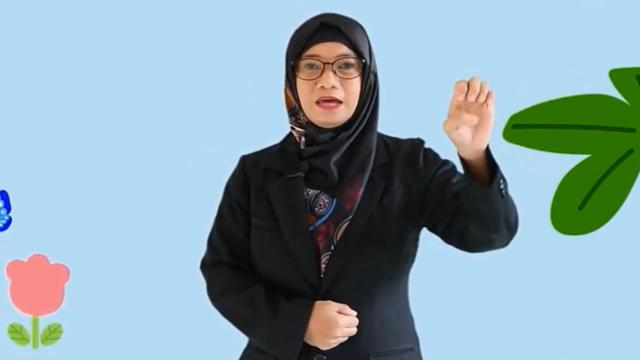E: (442, 77, 498, 157)
